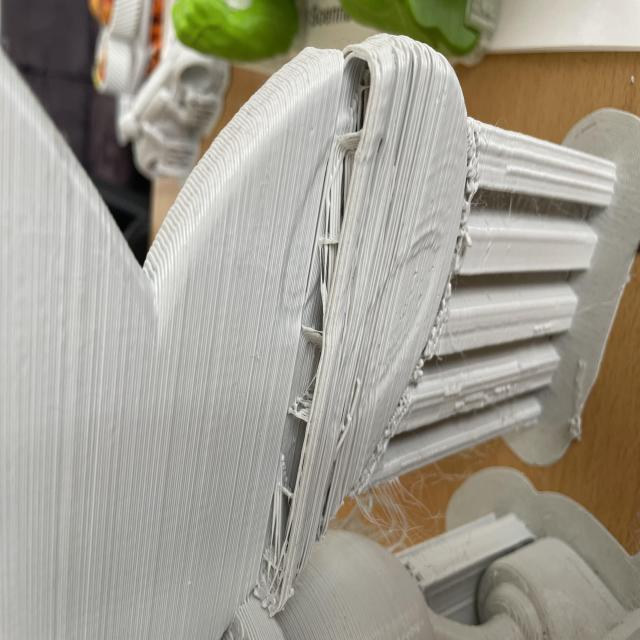Stringing: (247, 37, 376, 610)
